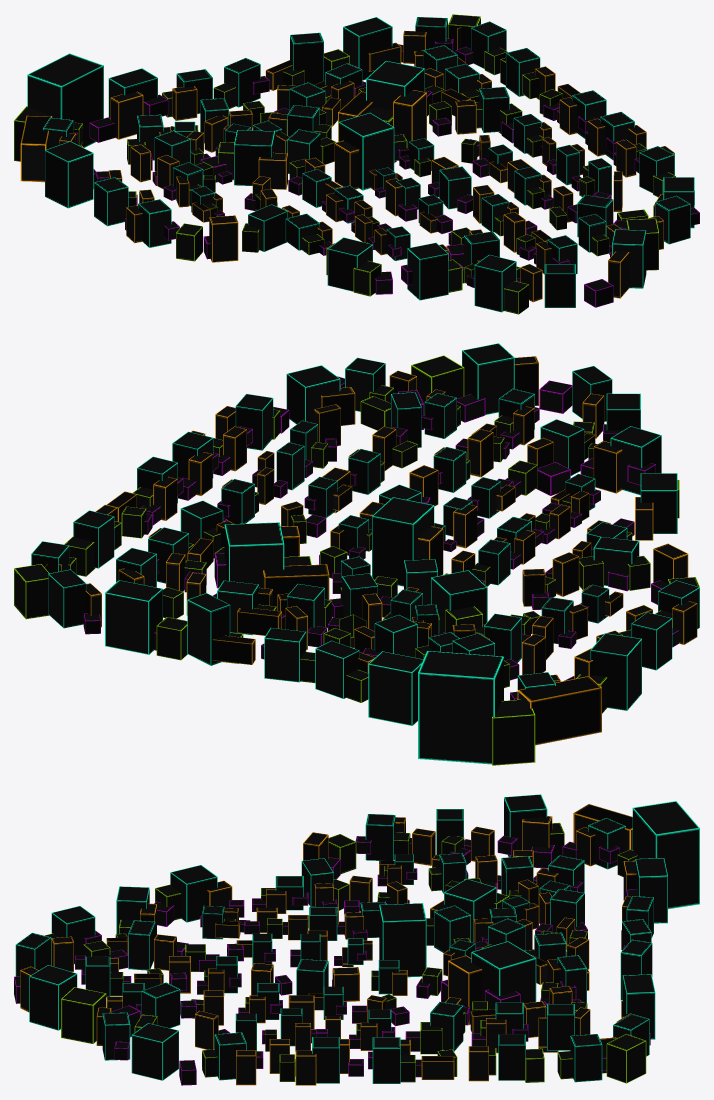
File: mapneon.FBX
3 views of the same model, one above another, from view 1: azimuth 30°, elevation 25°; view 2: azimuth 150°, elevation 25°; view 3: azimuth 270°, elevation 25° (orthographic). The views are drawn at different scales.
Visible parts, largest first — view 1: 1, 3, 4, 2; view 2: 1, 3, 4, 2; view 3: 1, 3, 4, 2.
Boxes of the visible parts, x1,y1,x2,y2 form: 1: (27, 17, 694, 312); 3: (20, 27, 674, 302); 4: (14, 14, 675, 314); 2: (73, 38, 699, 307); 1: (31, 343, 699, 764); 3: (44, 356, 697, 745); 4: (14, 355, 699, 765); 2: (83, 376, 678, 700); 1: (15, 794, 699, 1083); 3: (20, 804, 636, 1085); 4: (44, 822, 646, 1083); 2: (14, 835, 650, 1085).
Size of the model in its own units: 2601 by 372 by 3045.
